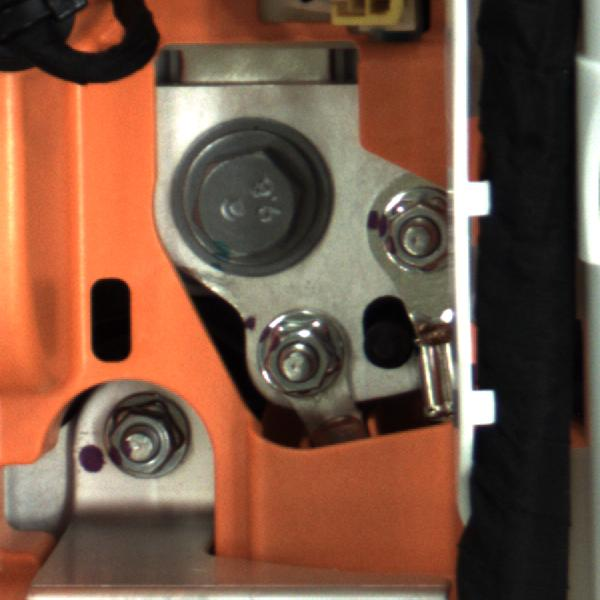nut_b: (175, 129, 326, 273)
screw_s: (250, 305, 351, 402), (100, 395, 190, 483), (374, 186, 450, 273)
